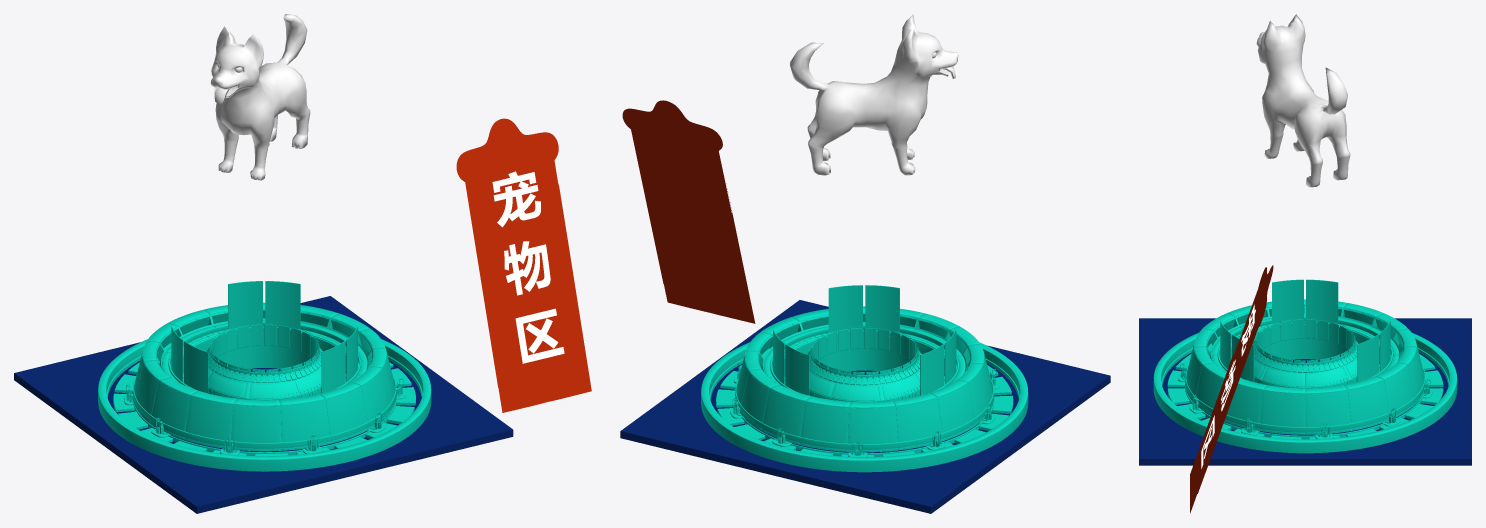
The picture shows the model from 3 angles, left to right: view 1: azimuth 30°, elevation 25°; view 2: azimuth 150°, elevation 25°; view 3: azimuth 270°, elevation 25°; orthographic projection. The views are drawn at different scales.
Parts seen in each view (by area): view 1: Tech_Rings_04(quads).001, 贝塞尔曲线.016, 立方体.001, Mesh_0135.rip.001, 文本.012; view 2: Tech_Rings_04(quads).001, 立方体.001, 贝塞尔曲线.016, Mesh_0135.rip.001; view 3: Tech_Rings_04(quads).001, 立方体.001, Mesh_0135.rip.001, 贝塞尔曲线.016, 文本.012.
Part boxes in pixels (x1,y1,x2,y2): Tech_Rings_04(quads).001: (98,281,431,471); 贝塞尔曲线.016: (456,118,591,412); 立方体.001: (14,296,513,513); Mesh_0135.rip.001: (210,14,310,180); 文本.012: (492,171,564,363); Tech_Rings_04(quads).001: (701,285,1028,472); 立方体.001: (620,300,1110,513); 贝塞尔曲线.016: (622,100,755,323); Mesh_0135.rip.001: (790,14,958,175); Tech_Rings_04(quads).001: (1153,279,1457,453); 立方体.001: (1139,318,1471,465); Mesh_0135.rip.001: (1256,14,1350,187); 贝塞尔曲线.016: (1190,265,1273,513); 文本.012: (1201,304,1255,468).
Bounding box in the file's own units: 7.76 × 6.88 × 5.73.
